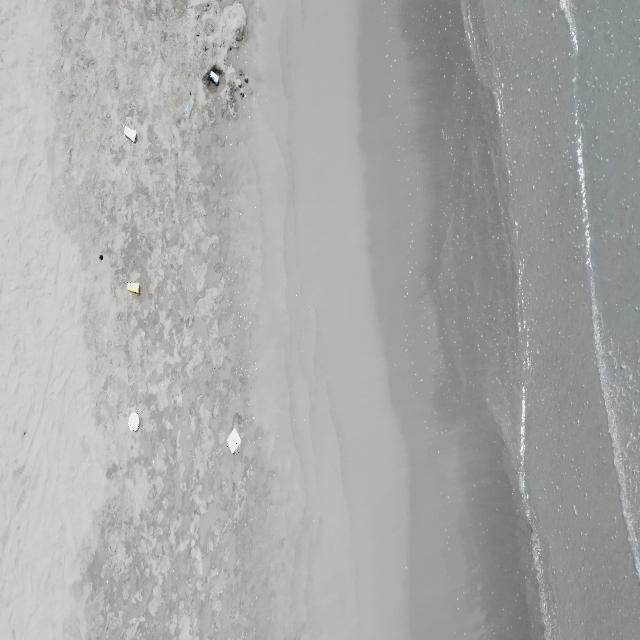take-away-containers: (226, 426, 242, 454), (128, 411, 140, 432)
takeaway-cup: (123, 124, 137, 143), (184, 99, 194, 118), (127, 282, 139, 296), (210, 72, 219, 85)
